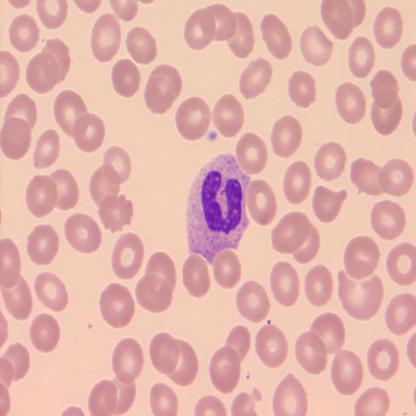Band Neutrophil: (183, 150, 253, 268)
